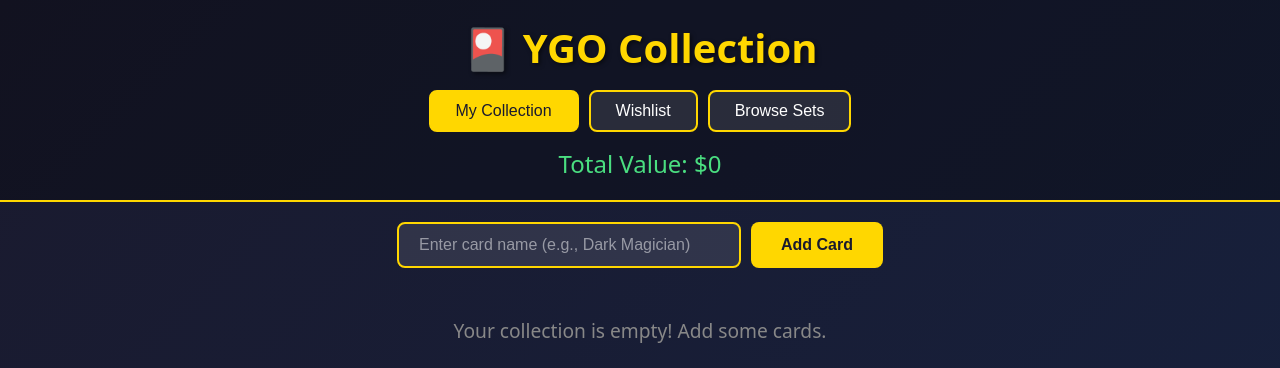
it: YGO Collection App › Browse Sets View › can switch to browse sets view
Click the button "Browse Sets" at (780, 111), box x1=708 y1=90 x2=852 y2=132
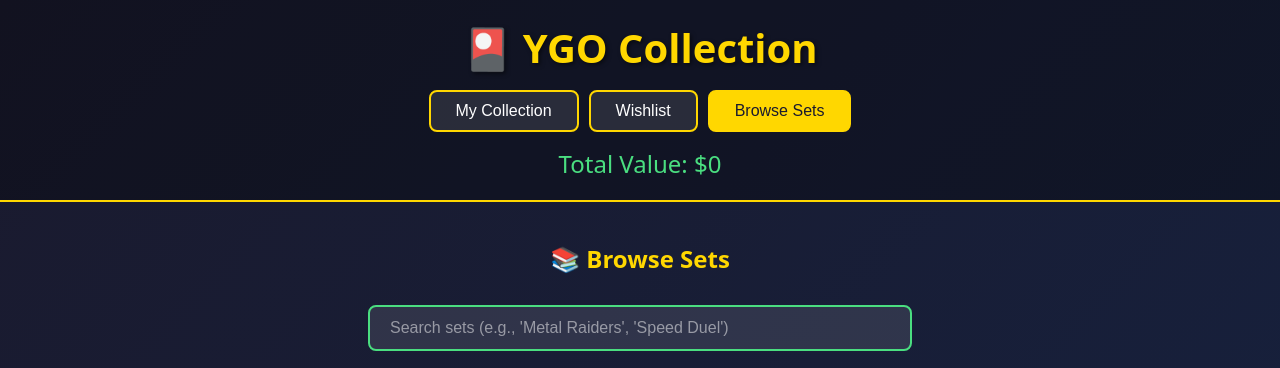
Expected: the heading "📚 Browse Sets" is shown, x1=550 y1=242 x2=730 y2=275
